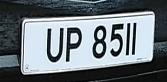1: (130, 19, 140, 59), (124, 19, 133, 61)
5: (109, 19, 124, 62)
8: (91, 22, 109, 62)
P: (65, 21, 85, 66)
U: (44, 22, 65, 67)
